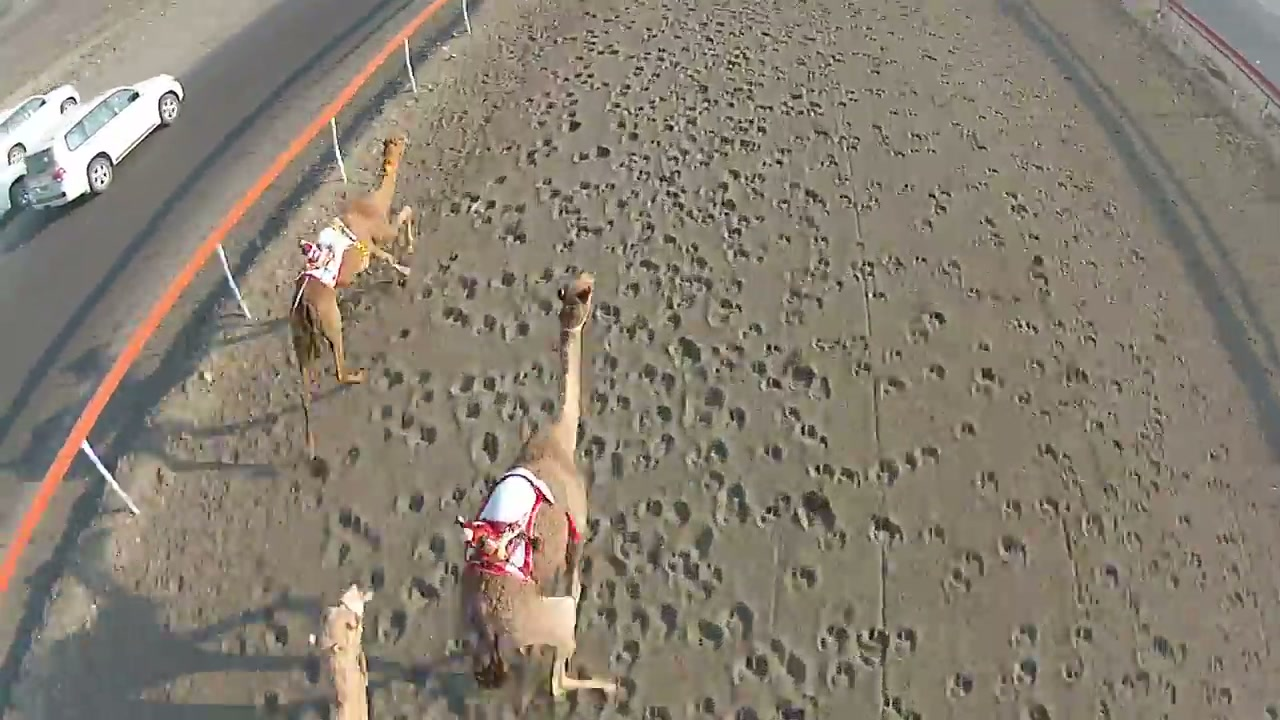animal_foot_print: (110, 0, 1279, 719)
